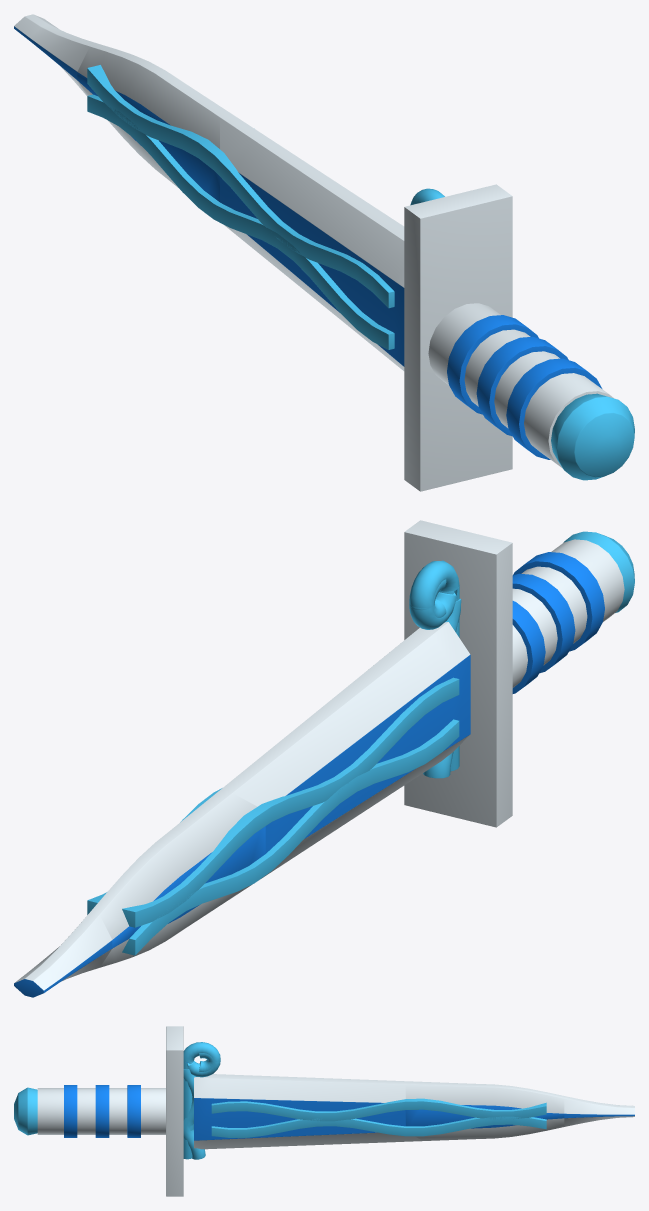
The model's file is Sword_GlacierrunLongsword.glb.
3 renders of one model, top to bottom at view 1: azimuth 30°, elevation 25°; view 2: azimuth 150°, elevation 25°; view 3: azimuth 270°, elevation 25°, orthographic. The views are drawn at different scales.
Parts seen in each view (by area): view 1: Sword_GlacierrunLongsword; view 2: Sword_GlacierrunLongsword; view 3: Sword_GlacierrunLongsword.
Part boxes in pixels (x1,y1,x2,y2): Sword_GlacierrunLongsword: (14,14,634,491); Sword_GlacierrunLongsword: (14,520,634,997); Sword_GlacierrunLongsword: (14,1026,634,1196).
Size of the model in its own units: 0.092 by 0.26 by 1.
1 material, 1 textured.
